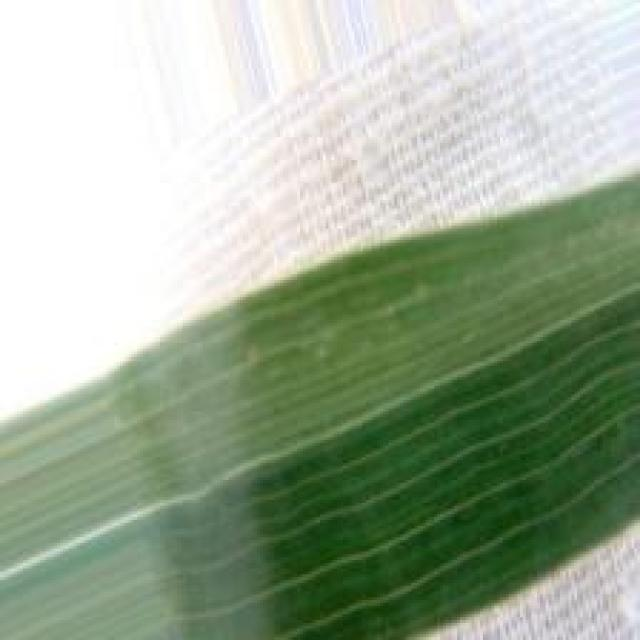Healthy: (0, 174, 640, 640)
